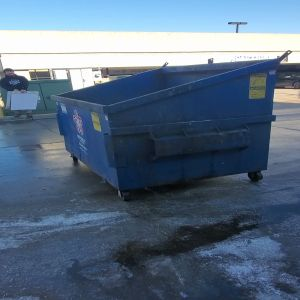Dumpster: (55, 59, 279, 203)
Person: (1, 65, 30, 91)
